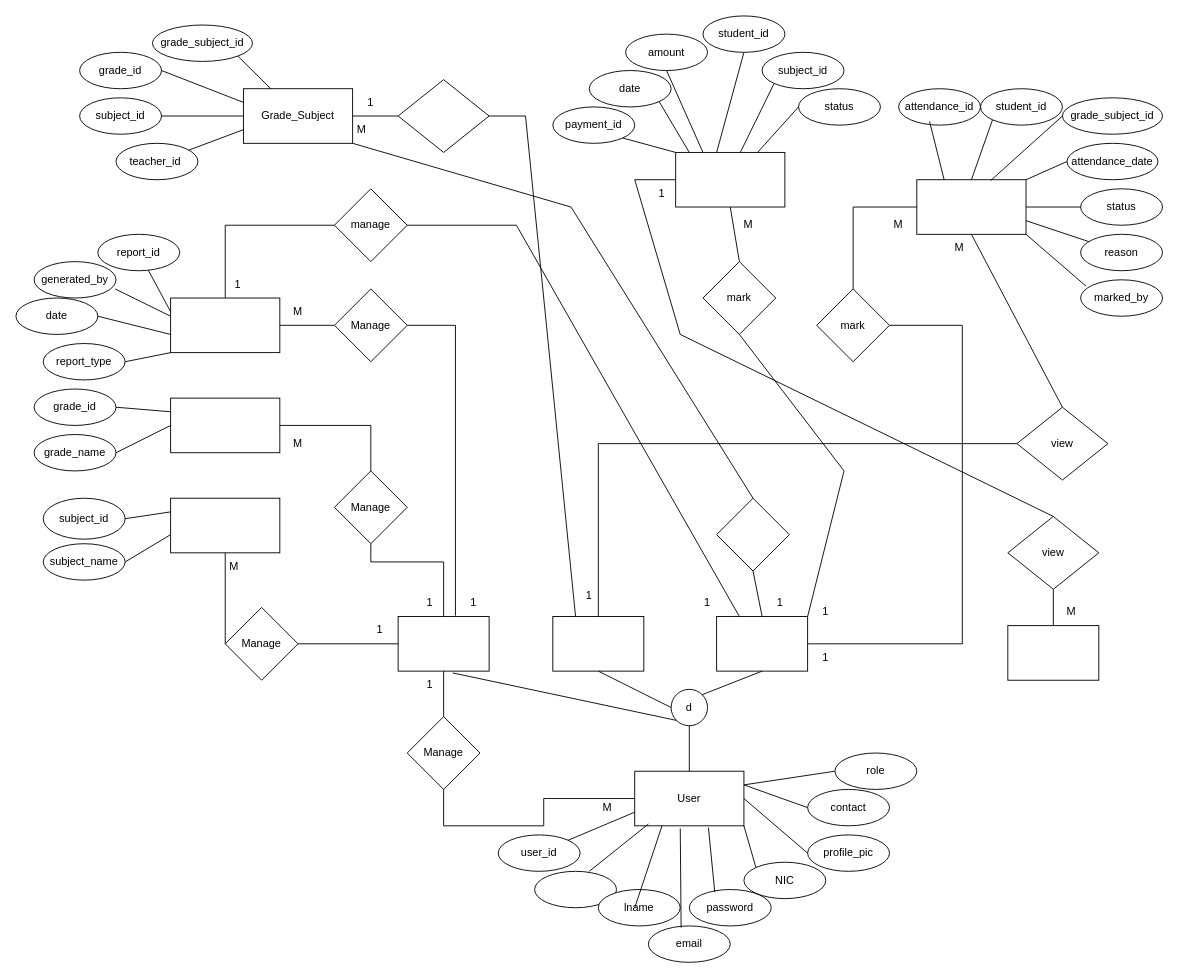
Some shapes in this 1178 by 978 pixel diagram are drawn without their labels. Each missing label, with the centre of its shape:
"Admin" belongs at pixel 443 643.
"assign" belongs at pixel 443 115.
"Attendance" belongs at pixel 971 206.
"Attendance_Report" belongs at pixel 225 325.
"Card Marker" belongs at pixel 762 643.
"fname" belongs at pixel 575 889.
"Grade" belongs at pixel 225 425.
"Payment" belongs at pixel 730 179.
"select" belongs at pixel 752 534.
"Student" belongs at pixel 1053 652.
"Subject" belongs at pixel 225 525.
"Teacher" belongs at pixel 598 643.
